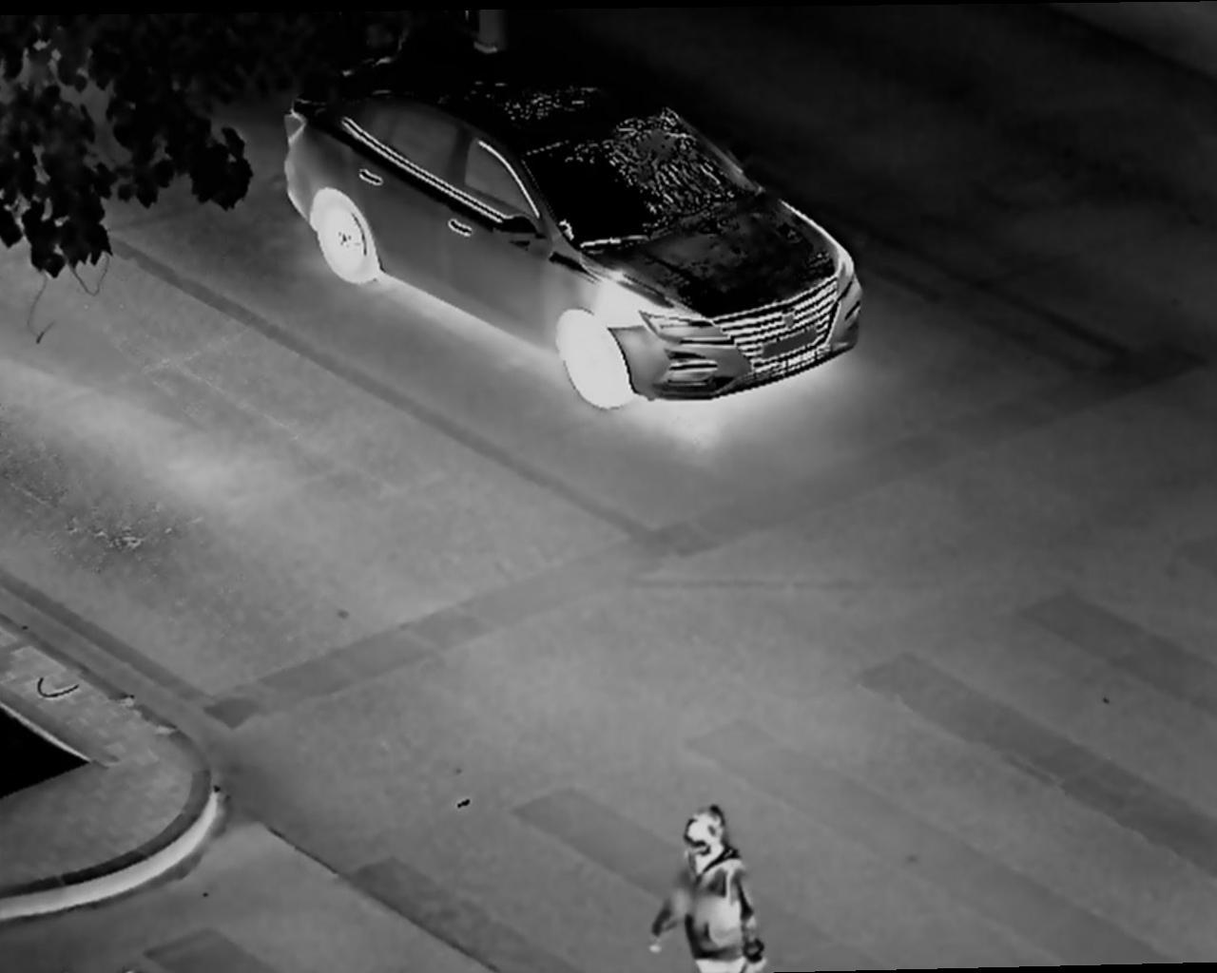person: (644, 800, 766, 973)
